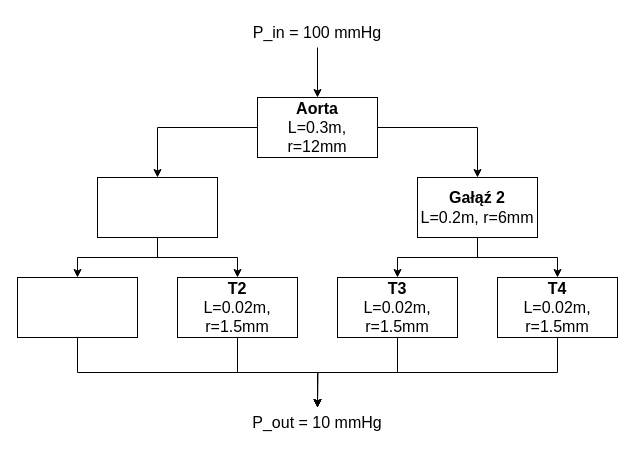
Image size: 635x454. Some labels were removed from this diagram. Here are the shapes that lost their labels. From the top down, the centre of each, then its label:
the point at 157,207: Gałąź 1 L=0.2m, r=6mm
the point at 77,307: T1 L=0.02m, r=1.5mm
